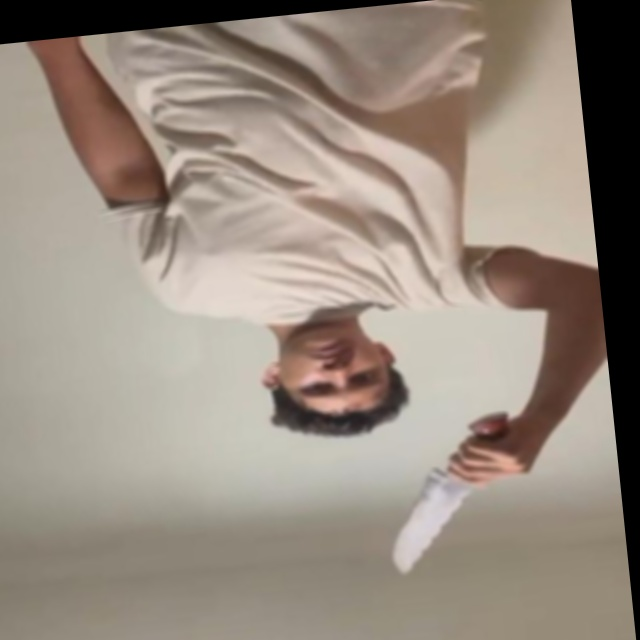Sharp-Object: (383, 475, 482, 576)
